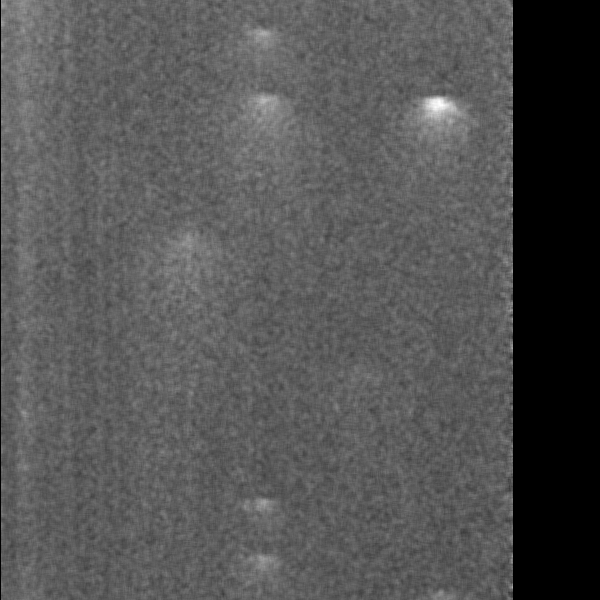spark: (408, 90, 469, 167), (240, 89, 287, 153), (178, 221, 201, 319), (240, 547, 284, 590), (241, 489, 281, 536), (246, 24, 278, 63), (426, 585, 456, 599)
